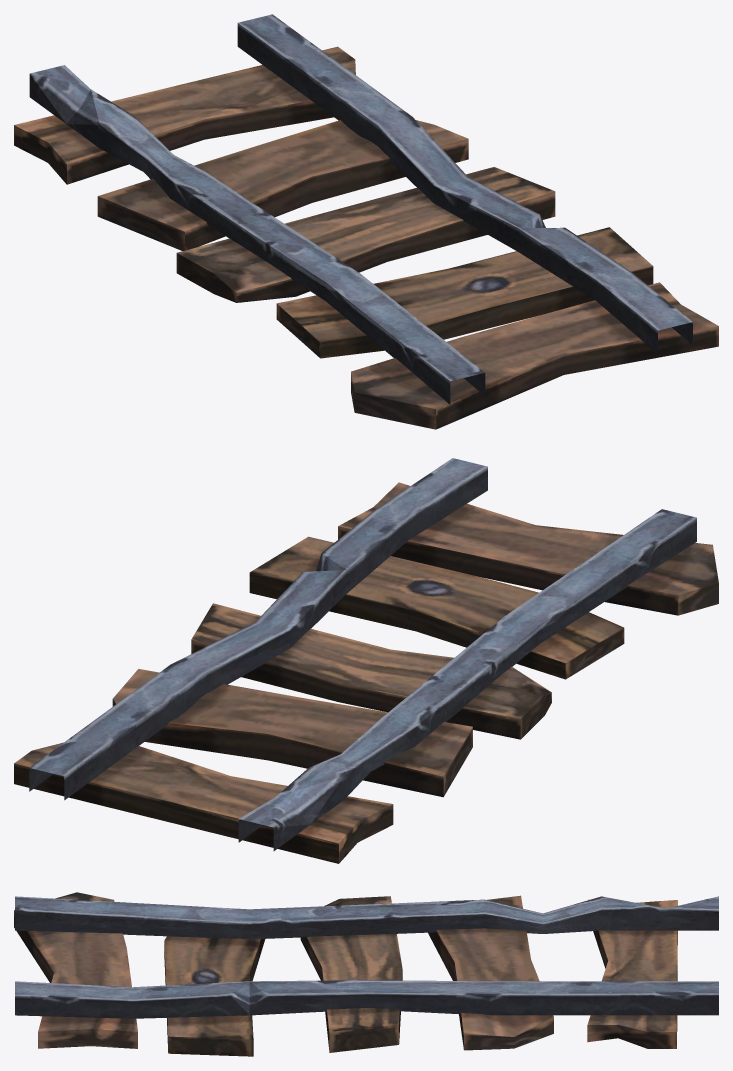
The model's file is mine_track_straight.fbx.
The picture shows the model from 3 angles, top to bottom: view 1: azimuth 30°, elevation 25°; view 2: azimuth 150°, elevation 25°; view 3: azimuth 270°, elevation 25°; orthographic projection. The views are drawn at different scales.
Parts seen in each view (by area): view 1: mine_rails/mine_rails01; view 2: mine_rails/mine_rails01; view 3: mine_rails/mine_rails01.
Part boxes in pixels (x1,y1,x2,y2): mine_rails/mine_rails01: (14, 14, 718, 429); mine_rails/mine_rails01: (14, 458, 718, 863); mine_rails/mine_rails01: (14, 892, 718, 1056).
Bounding box in the file's own units: 1.98 × 0.2322 × 4.01.
